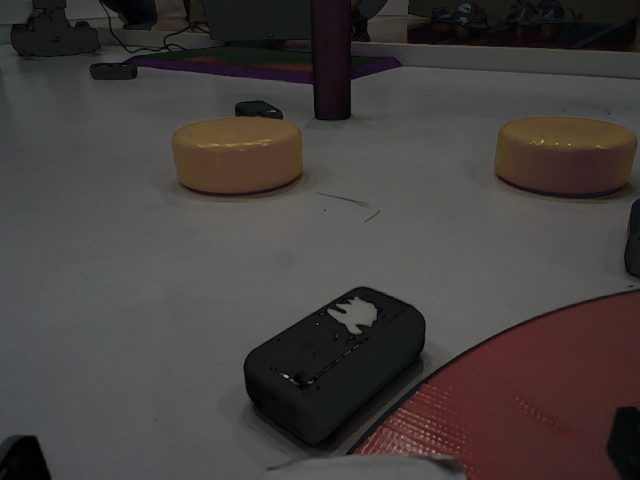black: (243, 287, 426, 451), (233, 94, 286, 125), (89, 60, 137, 80)
yellow: (492, 116, 639, 190), (170, 118, 304, 194)
zhuzi: (307, 1, 351, 121)
